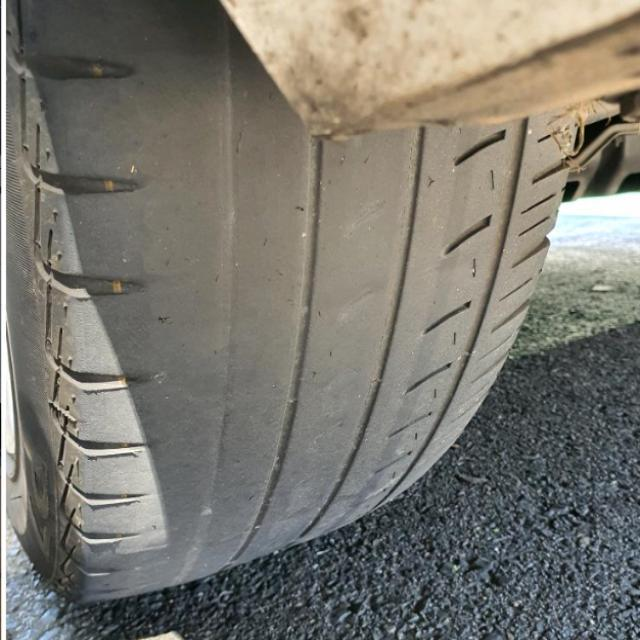Flat spots: (106, 100, 385, 582)
